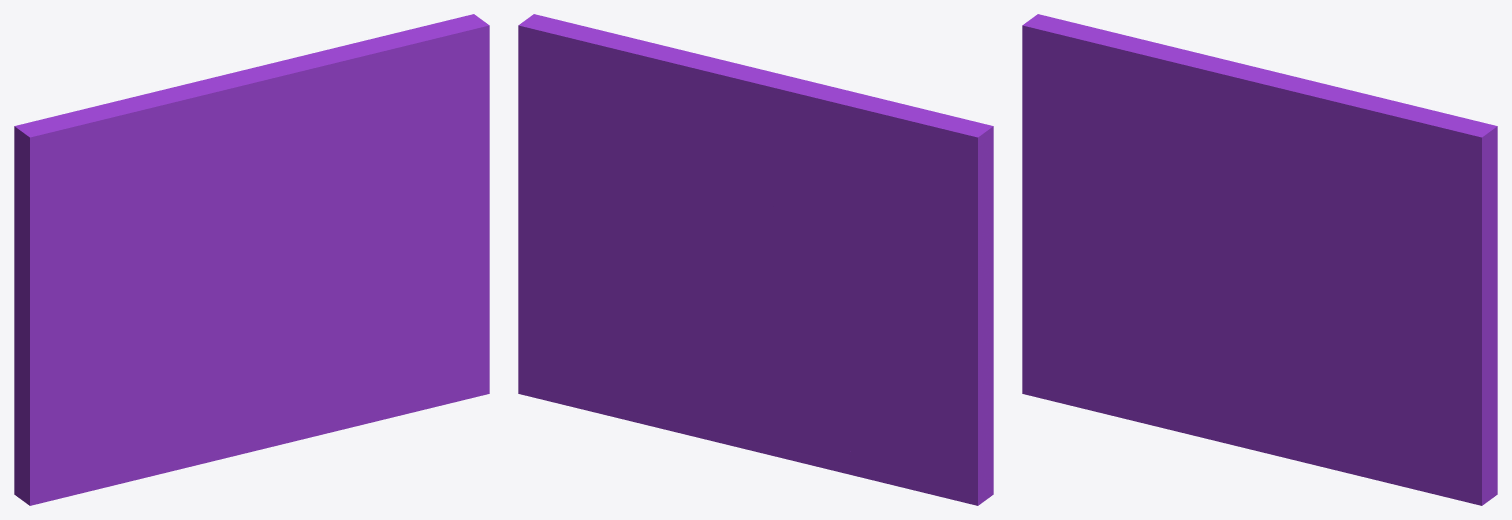
The model's file is Barrier_200_chunks.fbx.
The picture shows the model from 3 angles, left to right: view 1: azimuth 30°, elevation 25°; view 2: azimuth 150°, elevation 25°; view 3: azimuth 330°, elevation 25°; orthographic projection.
Visible parts, largest first — view 1: Barrier_200_3, Barrier_200_0, Barrier_200_1; view 2: Barrier_200_3, Barrier_200_1, Barrier_200_0, Barrier_200_2; view 3: Barrier_200_3, Barrier_200_0, Barrier_200_1.
Boxes of the visible parts, x1,y1,x2,y2 form: Barrier_200_3: (14, 88, 254, 505); Barrier_200_0: (169, 14, 489, 271); Barrier_200_1: (139, 214, 489, 479); Barrier_200_3: (755, 91, 993, 505); Barrier_200_1: (518, 213, 865, 478); Barrier_200_0: (518, 14, 851, 189); Barrier_200_2: (518, 166, 778, 279); Barrier_200_3: (1022, 14, 1247, 420); Barrier_200_0: (1164, 52, 1497, 326); Barrier_200_1: (1131, 269, 1497, 505).
Size of the model in its own units: 376 by 288 by 22.1.
